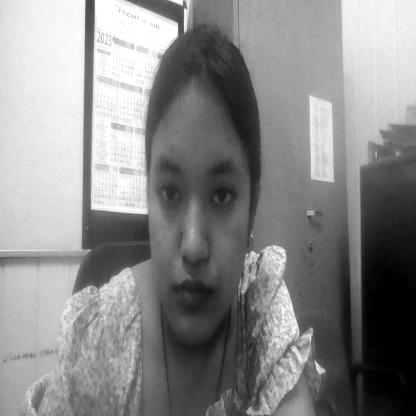Normal: (148, 108, 246, 351)
